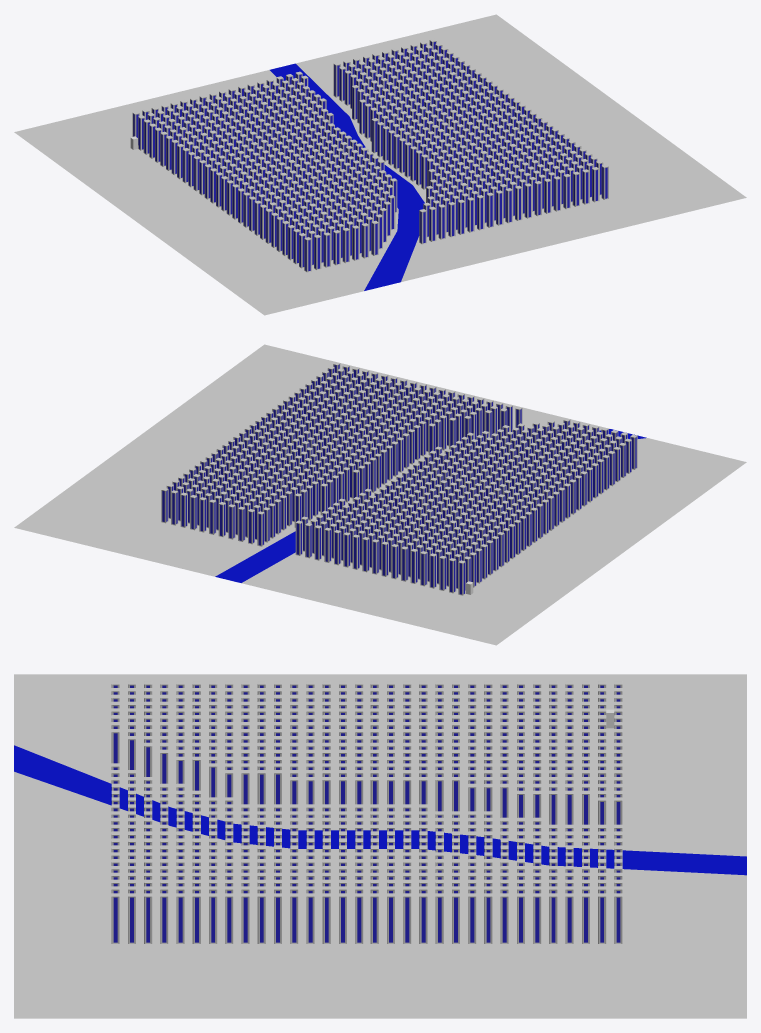
The model's file is testcity.fbx.
3 views of the same model, one above another, from view 1: azimuth 30°, elevation 25°; view 2: azimuth 150°, elevation 25°; view 3: azimuth 270°, elevation 25° (orthographic). The views are drawn at different scales.
Visible parts, largest first — view 1: Ground; view 2: Ground; view 3: Ground.
Boxes of the visible parts, x1,y1,x2,y2 form: Ground: (14, 14, 746, 315); Ground: (14, 344, 746, 645); Ground: (14, 674, 746, 1018).
Bounding box in the file's own units: 688536 × 44196 × 619032.
